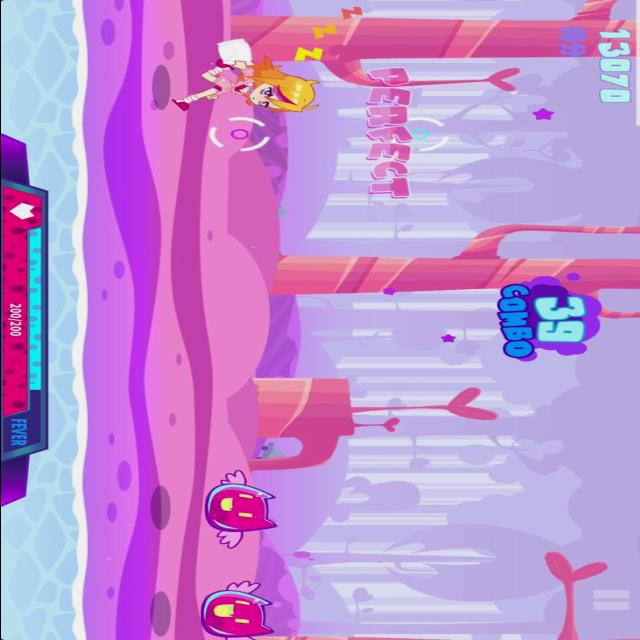mao: (195, 468, 284, 550), (194, 581, 278, 640)
